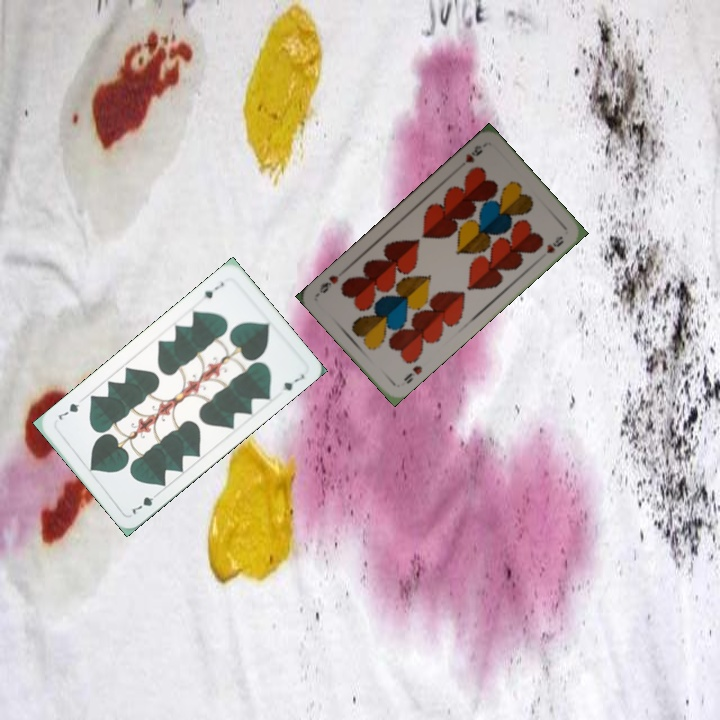G7: (128, 488, 162, 517), (200, 277, 227, 301)
H9: (399, 361, 425, 387), (461, 141, 485, 166)
